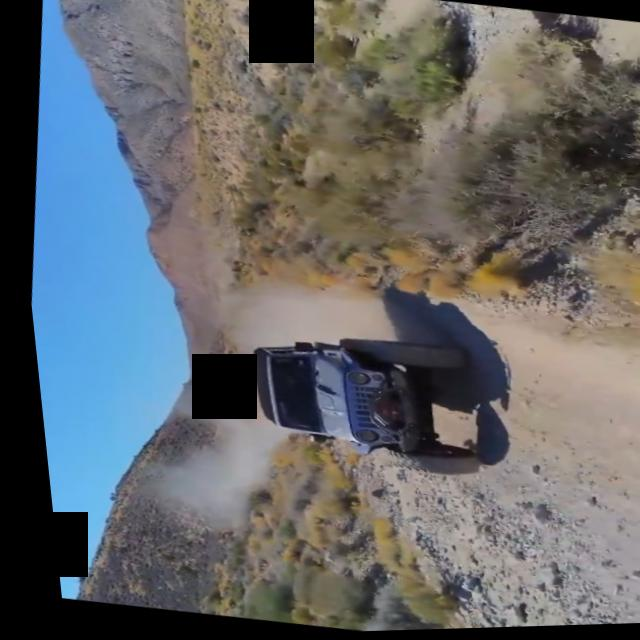Vehicle: (217, 309, 494, 490)
